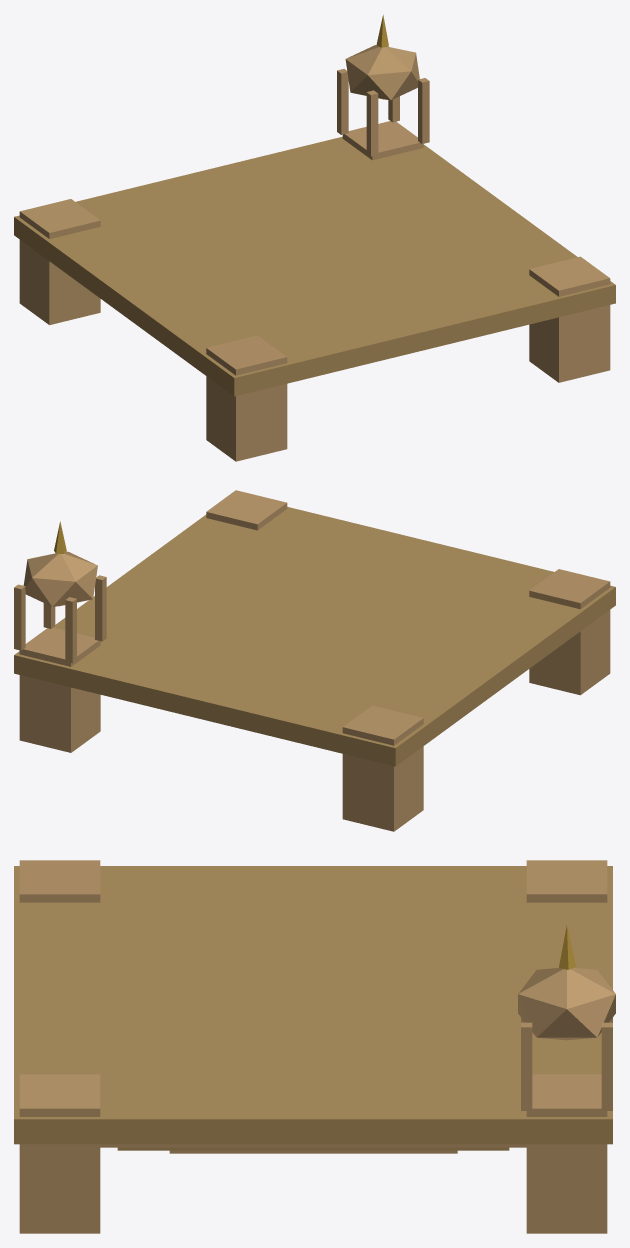
File: cat_house_c_broken.glb
3 renders of one model, top to bottom at view 1: azimuth 30°, elevation 25°; view 2: azimuth 150°, elevation 25°; view 3: azimuth 270°, elevation 25°, orthographic. The views are drawn at different scales.
Parts seen in each view (by area): view 1: cat_house_c_piece2, cat_house_c_piece7, cat_house_c_piece5, cat_house_c_piece0, cat_house_c_piece1, cat_house_c_piece4, cat_house_c_piece3, cat_house_c_piece9, cat_house_c_piece8, cat_house_c_piece11, cat_house_c_piece10, cat_house_c_piece6; view 2: cat_house_c_piece2, cat_house_c_piece7, cat_house_c_piece0, cat_house_c_piece4, cat_house_c_piece5, cat_house_c_piece1, cat_house_c_piece3, cat_house_c_piece11, cat_house_c_piece8, cat_house_c_piece10, cat_house_c_piece6, cat_house_c_piece9; view 3: cat_house_c_piece0, cat_house_c_piece2, cat_house_c_piece7, cat_house_c_piece8, cat_house_c_piece5, cat_house_c_piece1, cat_house_c_piece3, cat_house_c_piece11, cat_house_c_piece4, cat_house_c_piece10, cat_house_c_piece6, cat_house_c_piece9.
Part boxes in pixels (x1=…): cat_house_c_piece2: x1=112, y1=295, x2=446, y2=461; cat_house_c_piece7: x1=14, y1=192, x2=301, y2=324; cat_house_c_piece5: x1=273, y1=244, x2=615, y2=354; cat_house_c_piece0: x1=313, y1=15, x2=484, y2=198; cat_house_c_piece1: x1=92, y1=225, x2=411, y2=281; cat_house_c_piece4: x1=115, y1=54, x2=357, y2=223; cat_house_c_piece3: x1=295, y1=144, x2=459, y2=252; cat_house_c_piece9: x1=433, y1=302, x2=604, y2=382; cat_house_c_piece8: x1=426, y1=227, x2=610, y2=373; cat_house_c_piece11: x1=388, y1=189, x2=544, y2=232; cat_house_c_piece10: x1=84, y1=267, x2=273, y2=306; cat_house_c_piece6: x1=230, y1=282, x2=541, y2=304; cat_house_c_piece2: x1=354, y1=536, x2=615, y2=695; cat_house_c_piece7: x1=268, y1=638, x2=466, y2=831; cat_house_c_piece0: x1=14, y1=521, x2=171, y2=752; cat_house_c_piece4: x1=60, y1=572, x2=300, y2=743; cat_house_c_piece5: x1=225, y1=490, x2=399, y2=620; cat_house_c_piece1: x1=253, y1=589, x2=460, y2=694; cat_house_c_piece3: x1=96, y1=567, x2=269, y2=696; cat_house_c_piece11: x1=106, y1=546, x2=210, y2=620; cat_house_c_piece8: x1=163, y1=498, x2=246, y2=591; cat_house_c_piece10: x1=399, y1=620, x2=502, y2=714; cat_house_c_piece6: x1=309, y1=512, x2=452, y2=628; cat_house_c_piece9: x1=312, y1=513, x2=405, y2=547; cat_house_c_piece0: x1=357, y1=925, x2=615, y2=1233; cat_house_c_piece2: x1=14, y1=860, x2=321, y2=1023; cat_house_c_piece7: x1=393, y1=860, x2=612, y2=1003; cat_house_c_piece8: x1=19, y1=1063, x2=324, y2=1233; cat_house_c_piece5: x1=14, y1=950, x2=265, y2=1168; cat_house_c_piece1: x1=169, y1=870, x2=418, y2=1153; cat_house_c_piece3: x1=193, y1=1001, x2=601, y2=1153; cat_house_c_piece11: x1=207, y1=1064, x2=408, y2=1150; cat_house_c_piece4: x1=403, y1=933, x2=612, y2=1058; cat_house_c_piece10: x1=242, y1=866, x2=419, y2=951; cat_house_c_piece6: x1=14, y1=918, x2=253, y2=1069; cat_house_c_piece9: x1=14, y1=1005, x2=81, y2=1067.
Bounding box in the file's own units: 2.62 × 1.4 × 2.61.
